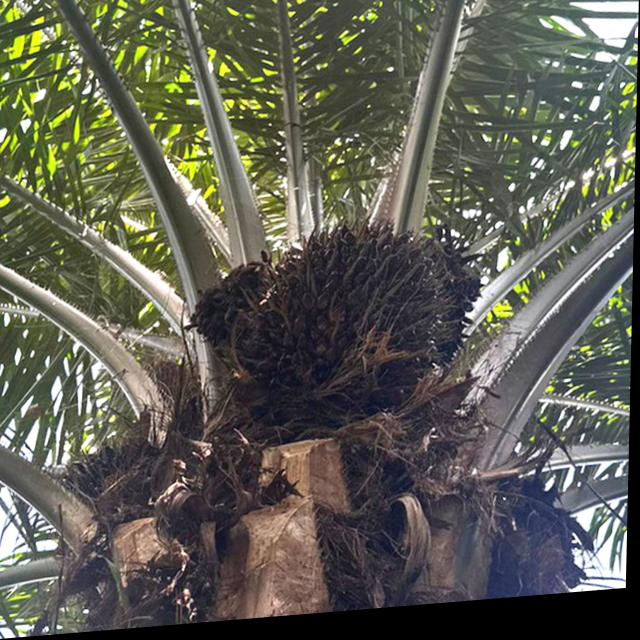ripe: (217, 202, 483, 446)
